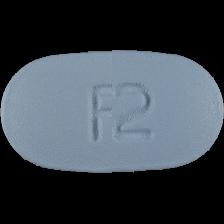65862-156: (0, 0, 224, 224)
